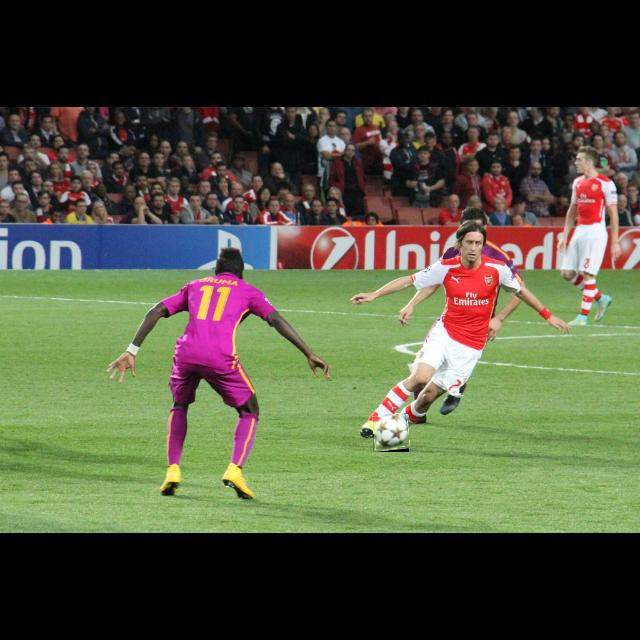Football: (373, 414, 409, 452)
